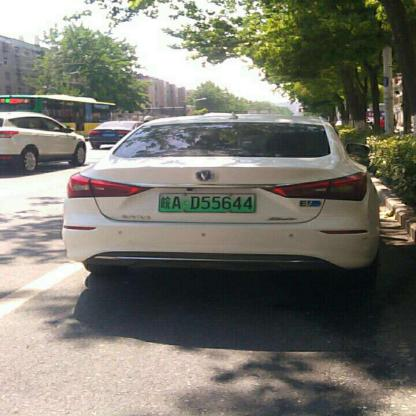lp: (158, 193, 254, 211)
